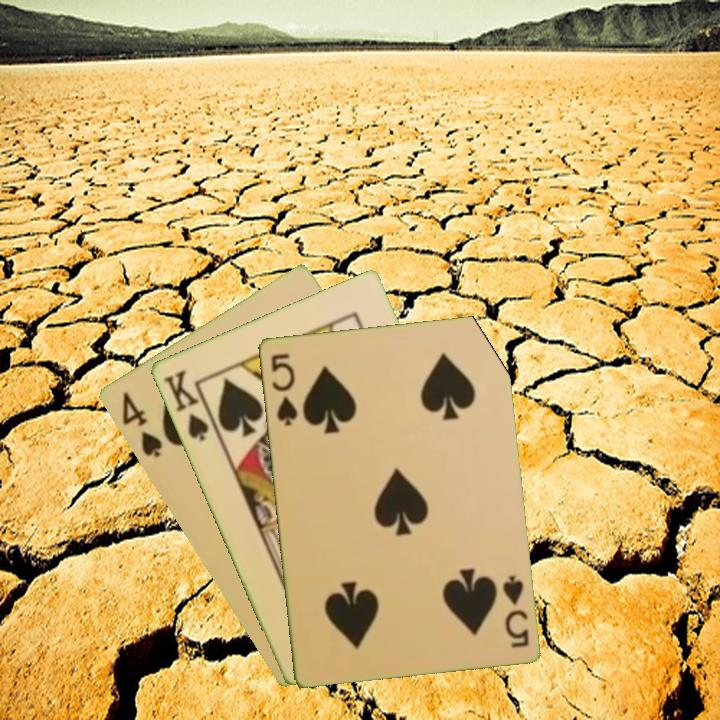4s: (118, 387, 165, 461)
5s: (267, 349, 300, 428), (499, 571, 531, 650)
Ks: (159, 366, 219, 444)
